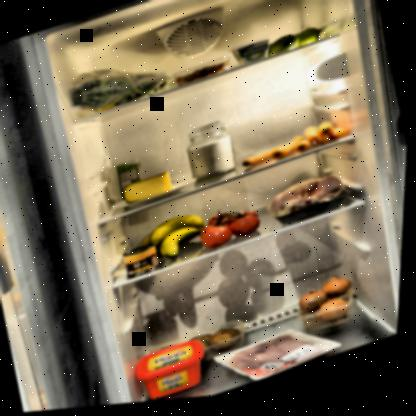banana: (143, 209, 215, 270)
butter: (129, 336, 221, 405)
carrot: (240, 120, 358, 179)
cheese: (122, 170, 180, 210)
chicken: (267, 171, 358, 236)
corn: (124, 242, 166, 282)
heavy_cream: (113, 156, 147, 198)
lime: (262, 27, 327, 66)
onion: (297, 275, 365, 339)
potato: (187, 323, 257, 367)
shrimp: (172, 60, 237, 96)
spinach: (57, 44, 178, 129)
tomato: (196, 203, 269, 257)
